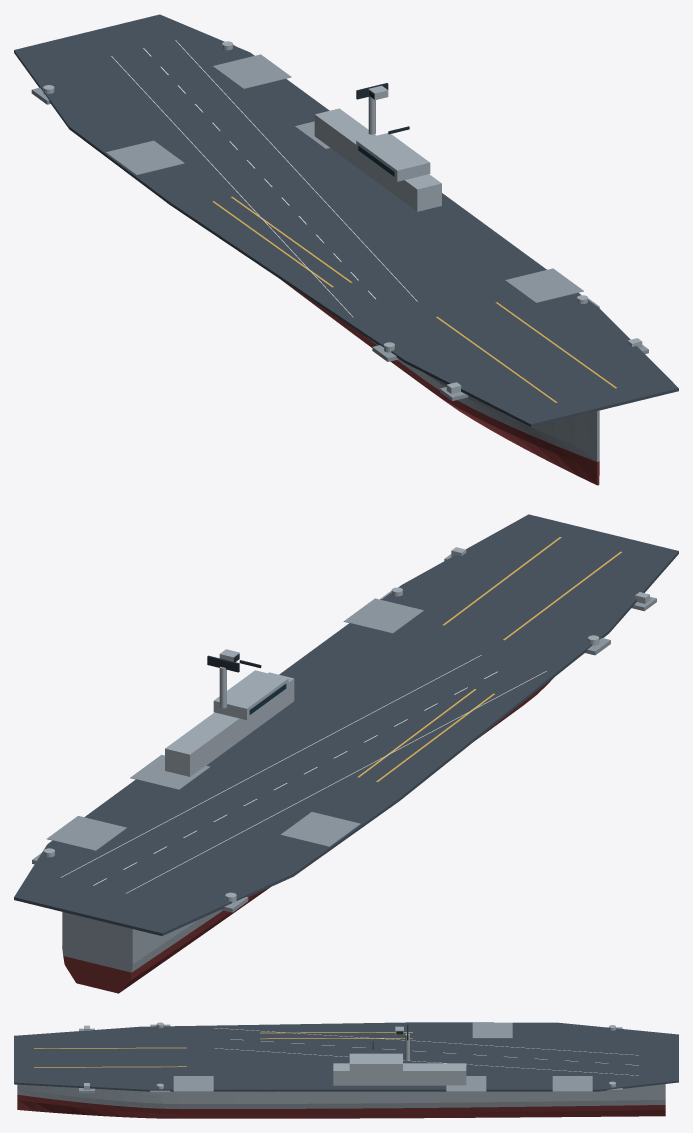
The model's file is ran_cvn_canberra_1978.obj.
3 views of the same model, one above another, from view 1: azimuth 30°, elevation 25°; view 2: azimuth 150°, elevation 25°; view 3: azimuth 270°, elevation 25° (orthographic). The views are drawn at different scales.
Parts seen in each view (by area): view 1: FlightDeck, Island, UnderwaterHull, Hull, Bridge, Elevator_1, Elevator_3, Elevator_4; view 2: FlightDeck, Hull, Island, UnderwaterHull, Bridge, Elevator_1, Elevator_4, Elevator_3, Elevator_2; view 3: FlightDeck, Hull, UnderwaterHull, Island, Bridge, Elevator_4, Elevator_1, Elevator_3, Elevator_2, LandingEdge_-1, LandingEdge_1, Catapult_1 (+2 smaller).
Boxes of the visible parts, x1,y1,x2,y2 form: FlightDeck: [14, 14, 678, 426]; Island: [314, 108, 441, 211]; UnderwaterHull: [283, 281, 599, 485]; Hull: [368, 338, 599, 461]; Bridge: [356, 133, 430, 181]; Elevator_1: [505, 268, 583, 302]; Elevator_3: [212, 54, 291, 88]; Elevator_4: [106, 140, 184, 175]; FlightDeck: [14, 514, 678, 935]; Hull: [62, 910, 222, 972]; Island: [165, 672, 294, 776]; UnderwaterHull: [63, 678, 553, 993]; Bridge: [213, 670, 288, 720]; Elevator_1: [343, 598, 423, 633]; Elevator_4: [280, 812, 360, 846]; Elevator_3: [47, 816, 126, 850]; Elevator_2: [130, 754, 209, 789]; FlightDeck: [14, 1022, 678, 1091]; Hull: [17, 1084, 665, 1108]; UnderwaterHull: [17, 1094, 665, 1118]; Island: [333, 1063, 466, 1085]; Bridge: [349, 1053, 402, 1071]; Elevator_4: [472, 1022, 512, 1038]; Elevator_1: [173, 1076, 213, 1091]; Elevator_3: [552, 1076, 592, 1091]; Elevator_2: [446, 1076, 486, 1091]; LandingEdge_-1: [214, 1028, 638, 1055]; LandingEdge_1: [214, 1048, 638, 1075]; Catapult_1: [34, 1066, 186, 1067].
Bounding box in the file's own units: 1.19 × 0.848 × 4.84.
